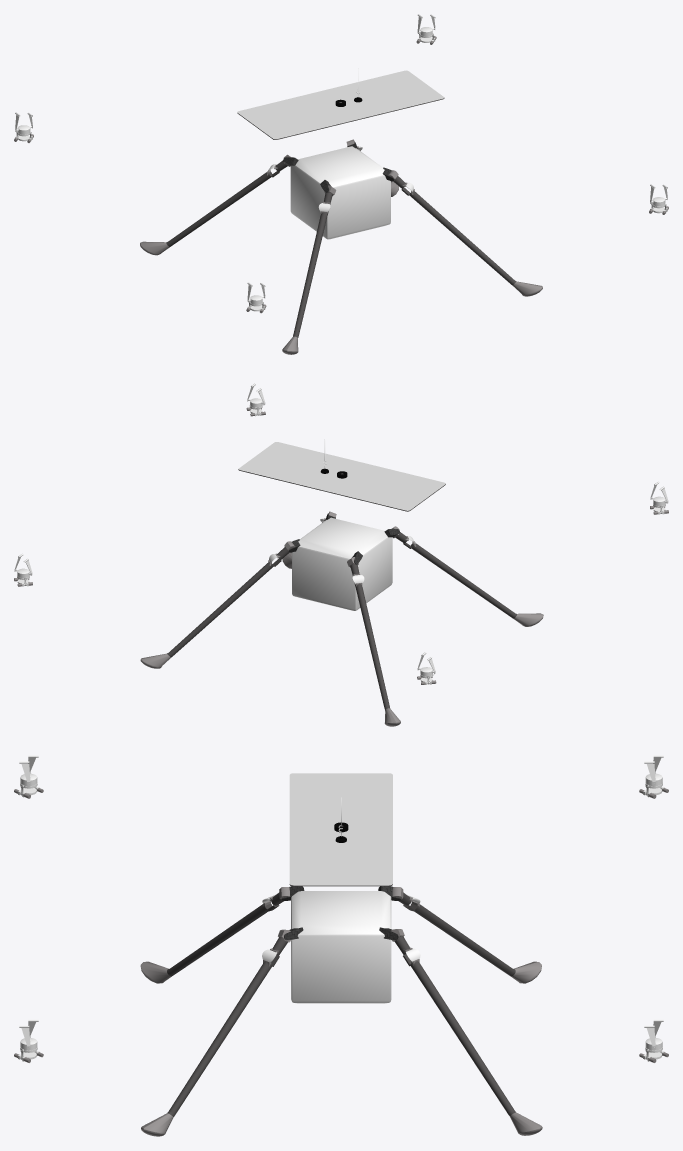
Rendered from ingenuity.dae.
3 views of the same model, one above another, from view 1: azimuth 30°, elevation 25°; view 2: azimuth 150°, elevation 25°; view 3: azimuth 270°, elevation 25° (orthographic). The views are drawn at different scales.
Parts seen in each view (by area): view 1: bus, solar_panel, leg_03, leg_01, leg_02; view 2: bus, solar_panel, leg_04, leg_01, leg_02; view 3: solar_panel, bus, leg_04, leg_03, leg_02, leg_01, parts_01.005, parts_01.002, parts_01.004, parts_01.003.
Part boxes in pixels (x1,y1,x2,y2): bus: [283, 142, 393, 239]; solar_panel: [237, 68, 444, 139]; leg_03: [388, 170, 542, 296]; leg_01: [282, 185, 336, 354]; leg_02: [140, 154, 290, 255]; bus: [284, 513, 400, 610]; solar_panel: [238, 440, 445, 511]; leg_04: [140, 541, 295, 668]; leg_01: [392, 526, 543, 626]; leg_02: [347, 557, 400, 726]; solar_panel: [289, 773, 392, 886]; bus: [281, 886, 400, 1003]; leg_04: [391, 929, 542, 1135]; leg_03: [141, 929, 291, 1136]; leg_02: [392, 887, 541, 983]; leg_01: [140, 887, 289, 983]; parts_01.005: [639, 1019, 668, 1062]; parts_01.002: [14, 1019, 43, 1062]; parts_01.004: [639, 755, 668, 798]; parts_01.003: [14, 755, 43, 798].
Bounding box in the file's own units: 1.05 × 1.05 × 0.4815.
20 materials, 2 textured.
